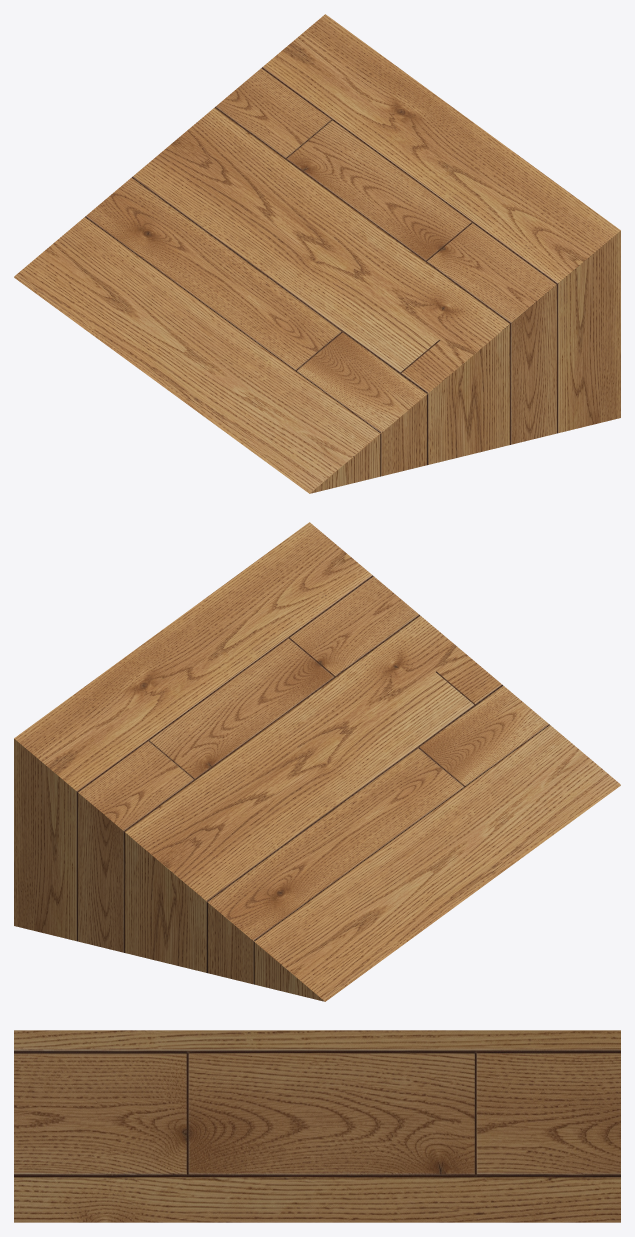
File: oakrampsmall.glb
3 views of the same model, one above another, from view 1: azimuth 30°, elevation 25°; view 2: azimuth 150°, elevation 25°; view 3: azimuth 270°, elevation 25° (orthographic). The views are drawn at different scales.
Parts seen in each view (by area): view 1: Ramp_Oak; view 2: Ramp_Oak; view 3: Ramp_Oak.
Boxes of the visible parts, box(x1,y1,x2,y2) form: Ramp_Oak: box(14, 14, 620, 493); Ramp_Oak: box(14, 522, 620, 1001); Ramp_Oak: box(14, 1030, 620, 1222).
Bounding box in the file's own units: 0.6082 × 0.35 × 1.
Materials: 1 (1 with a texture image).
